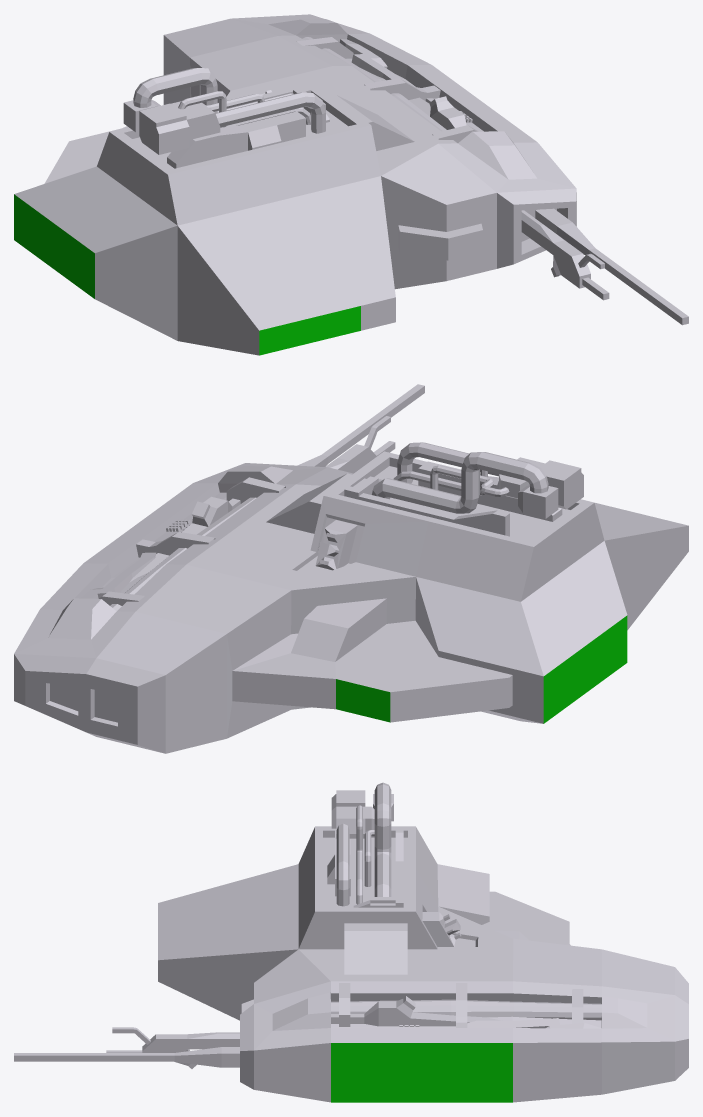
Rendered from Outrigger.fbx.
3 views of the same model, one above another, from view 1: azimuth 30°, elevation 25°; view 2: azimuth 150°, elevation 25°; view 3: azimuth 270°, elevation 25° (orthographic). The views are drawn at different scales.
Parts seen in each view (by area): view 1: Outrigger; view 2: Outrigger; view 3: Outrigger.
Part boxes in pixels (<box>): Outrigger: <box>14,14,688,355</box>; Outrigger: <box>14,384,688,753</box>; Outrigger: <box>14,782,688,1102</box>.
Bounding box in the file's own units: 4.24 × 2.07 × 6.69.
